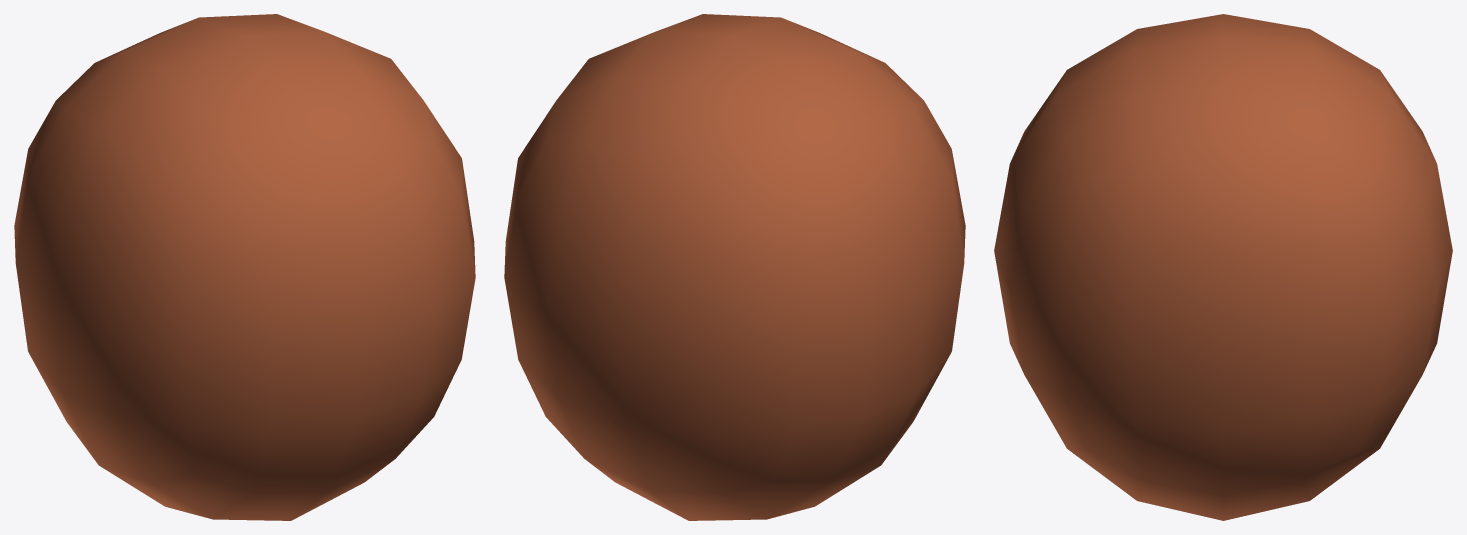
Rendered from head.fbx.
3 views of the same model, side by side, from view 1: azimuth 30°, elevation 25°; view 2: azimuth 150°, elevation 25°; view 3: azimuth 270°, elevation 25° (orthographic).
Visible parts, largest first — view 1: head; view 2: head; view 3: head.
Boxes of the visible parts, bbox=[...] form: head: bbox=[14, 14, 475, 520]; head: bbox=[504, 14, 965, 520]; head: bbox=[994, 14, 1452, 520].
Size of the model in its own units: 112 by 132 by 118.
